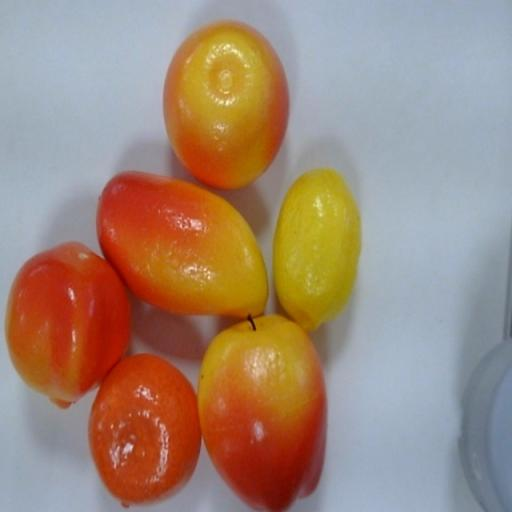Ripe: (93, 167, 273, 325), (197, 310, 331, 512), (161, 17, 294, 192), (4, 236, 134, 414), (87, 350, 201, 505), (270, 165, 362, 335)
